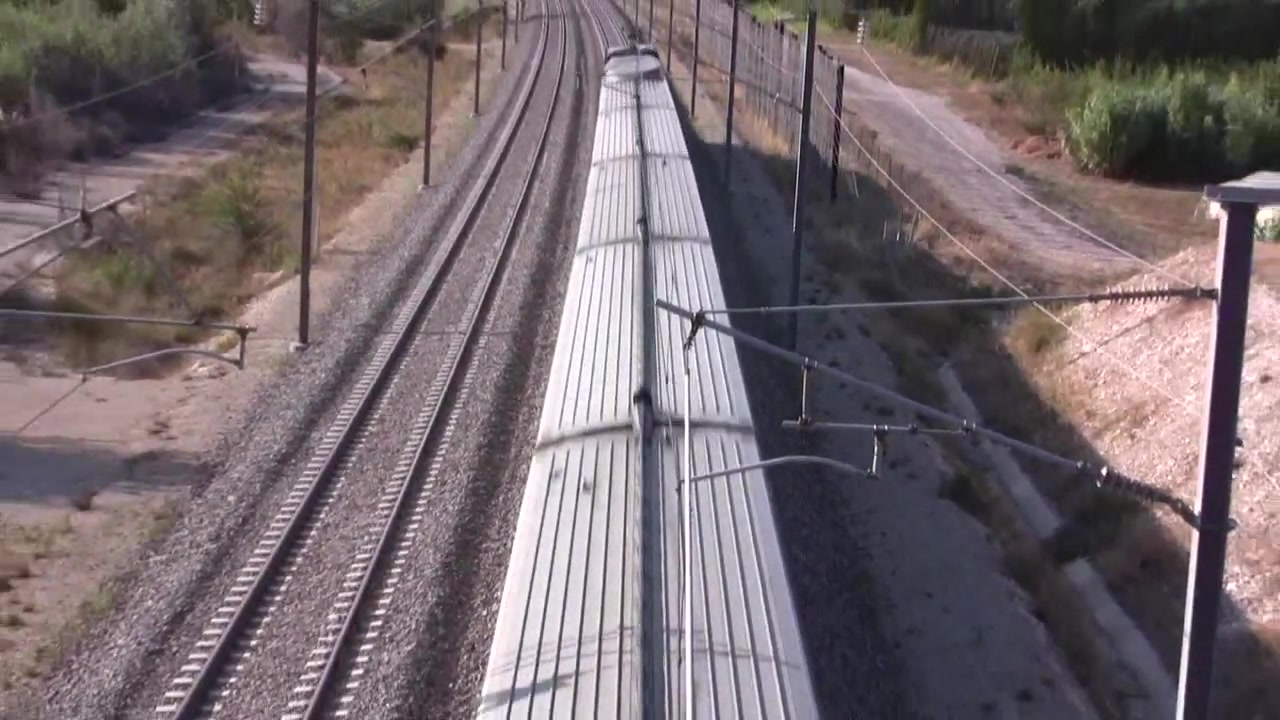train: (475, 36, 825, 720)
